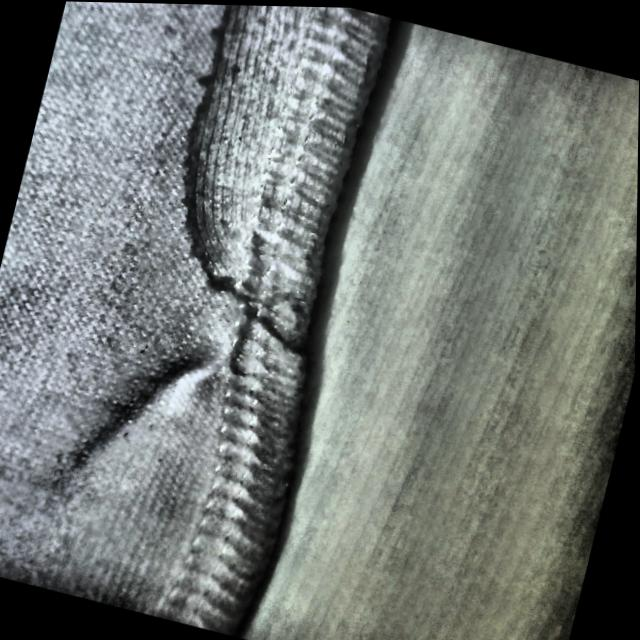seam: (97, 2, 392, 315)
